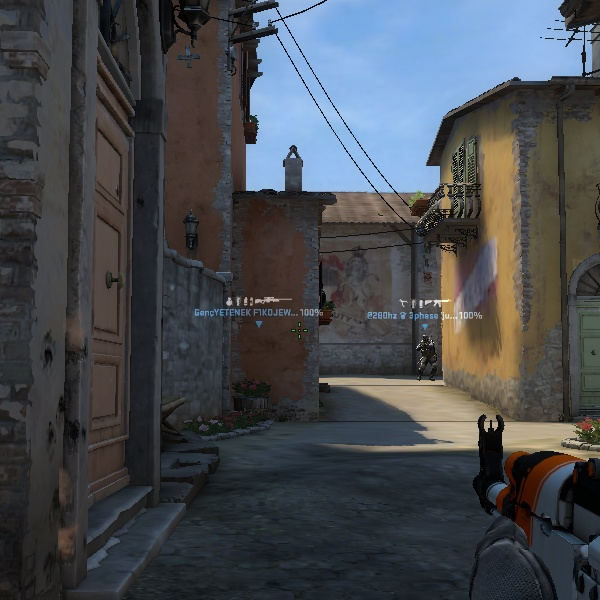ct_body: (413, 330, 439, 379)
